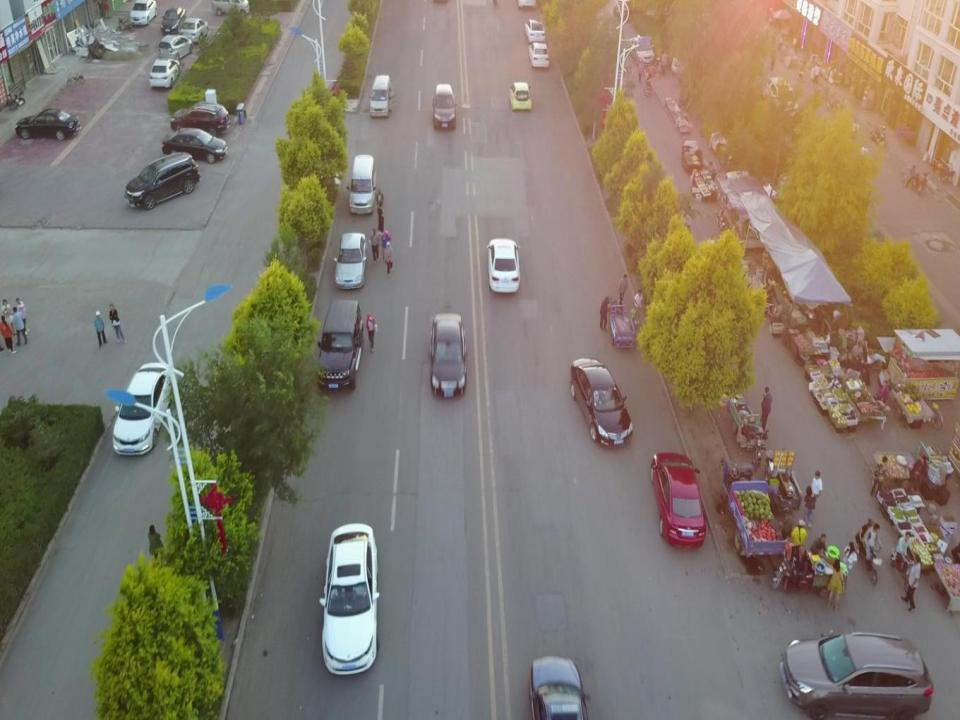car: (318, 522, 378, 673), (568, 359, 634, 446), (649, 451, 707, 548), (113, 362, 171, 458), (125, 151, 200, 210), (785, 630, 914, 657), (427, 314, 467, 398), (162, 128, 227, 163), (486, 236, 521, 295), (170, 102, 230, 136), (15, 109, 80, 140), (334, 233, 368, 288), (765, 75, 799, 116), (150, 58, 180, 86), (159, 35, 193, 59), (628, 34, 654, 65), (678, 60, 712, 83), (162, 6, 186, 34), (128, 1, 157, 24), (613, 1, 646, 21), (508, 83, 532, 110), (528, 41, 550, 70), (182, 17, 208, 41), (672, 54, 704, 72), (524, 18, 545, 42)
van: (317, 301, 364, 390), (346, 156, 376, 216), (369, 74, 397, 118), (432, 84, 457, 130), (212, 0, 249, 14)
